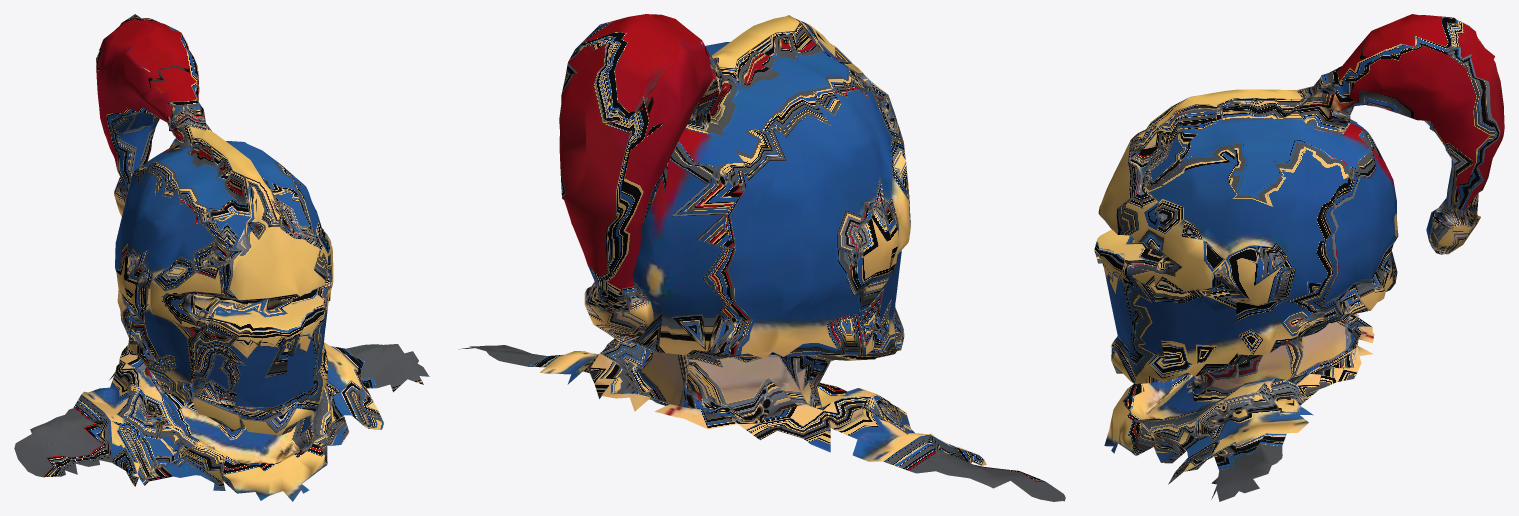
The model's file is templar_helm.glb.
The picture shows the model from 3 angles, left to right: view 1: azimuth 30°, elevation 25°; view 2: azimuth 150°, elevation 25°; view 3: azimuth 270°, elevation 25°; orthographic projection. The views are drawn at different scales.
Parts seen in each view (by area): view 1: helm; view 2: helm; view 3: helm.
Boxes of the visible parts, left/top/right/bottom form: helm: left=14, top=14, right=429, bottom=501; helm: left=459, top=14, right=1065, bottom=501; helm: left=1094, top=14, right=1504, bottom=501.
Bounding box in the file's own units: 0.4693 × 0.4246 × 0.3679.
1 material, 1 textured.
